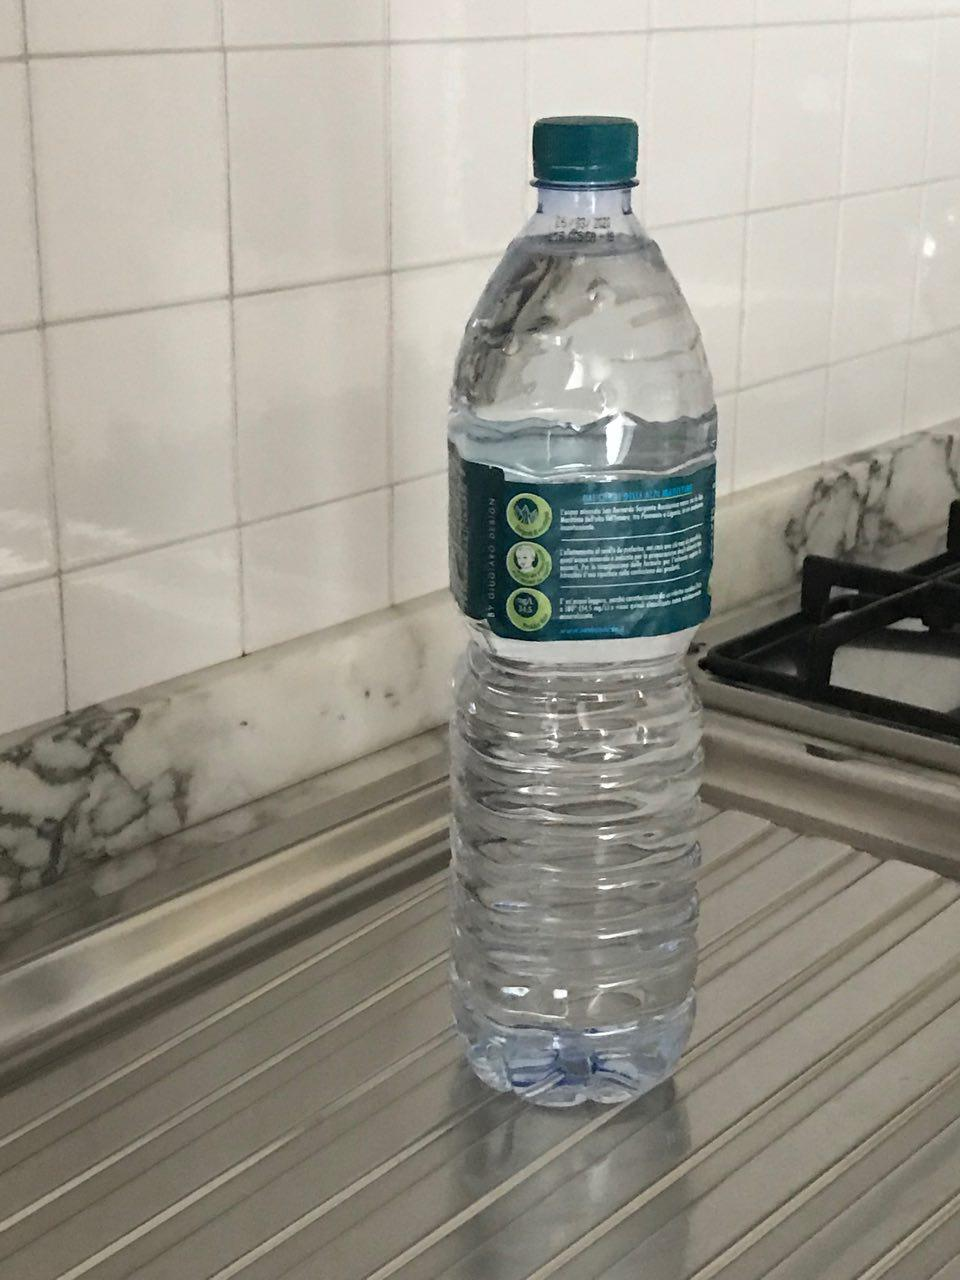san_bernardo: (446, 115, 720, 1110)
